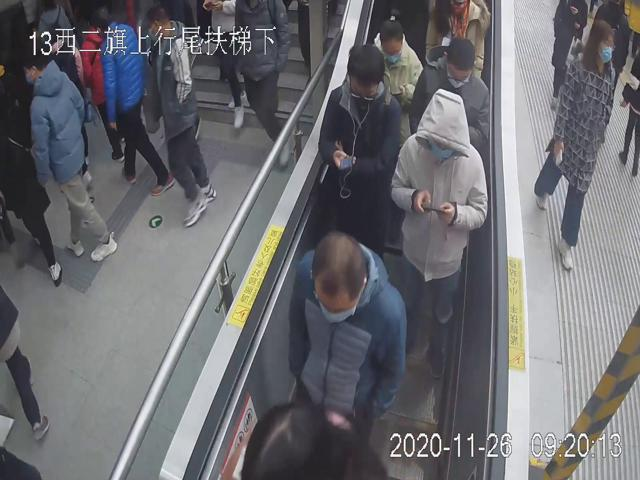person: (392, 88, 487, 383), (287, 230, 408, 438), (18, 43, 118, 264), (532, 15, 617, 273), (318, 43, 401, 251), (408, 36, 489, 155), (371, 8, 423, 147)
